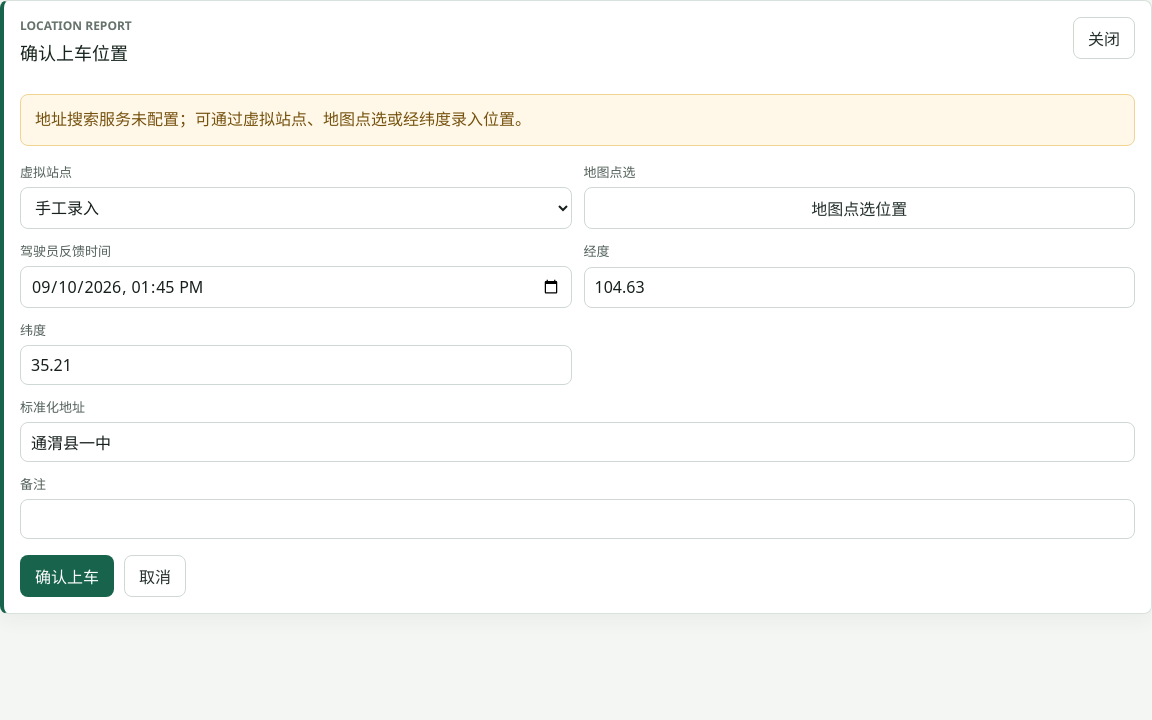
Test: LocationReportPanel › validates longitude and latitude ranges
The image size is (1152, 720).
Replace the text in the number field labelled "经度" with "200": (859, 287) [584,267,1135,308]
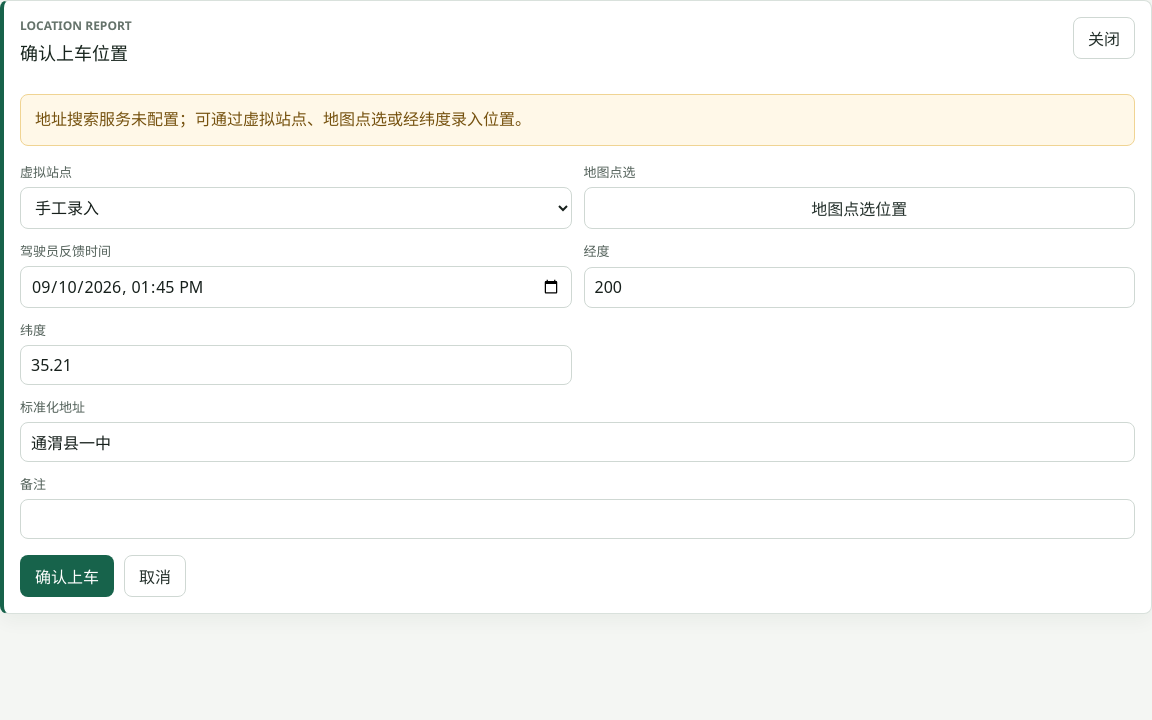
Click the button "确认上车": (67, 576) [20,555,114,597]
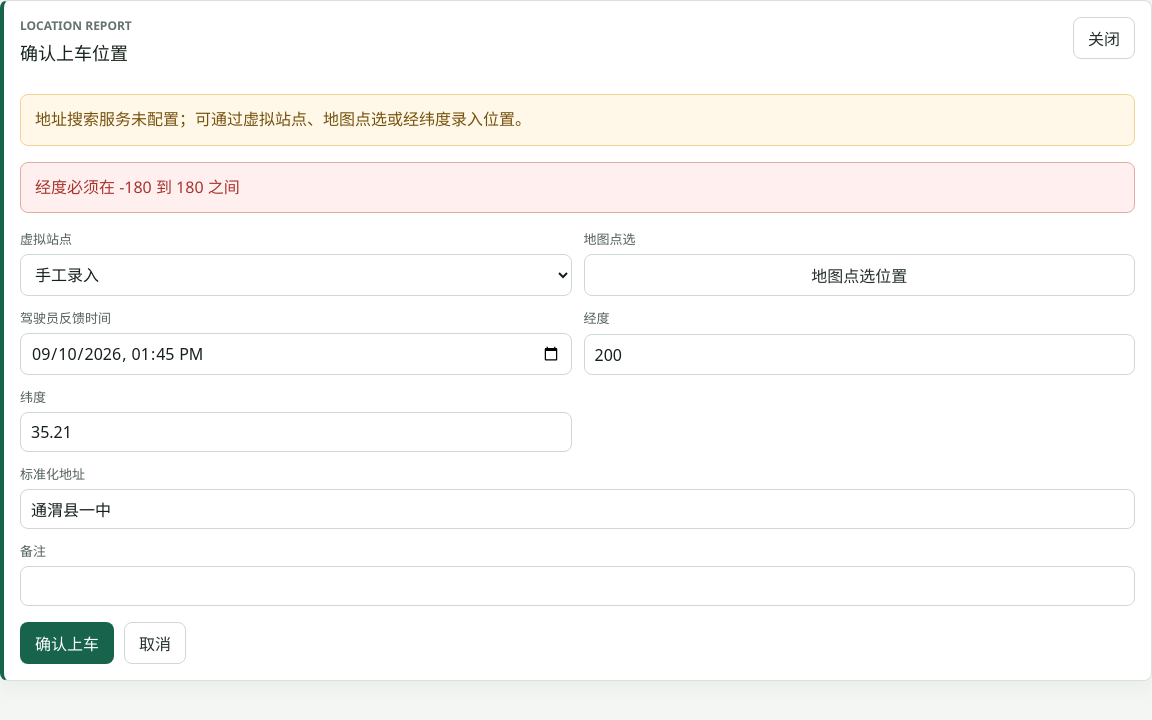
Result: the text "经度必须在 -180 到 180 之间" is shown at [20,162,1135,213]
